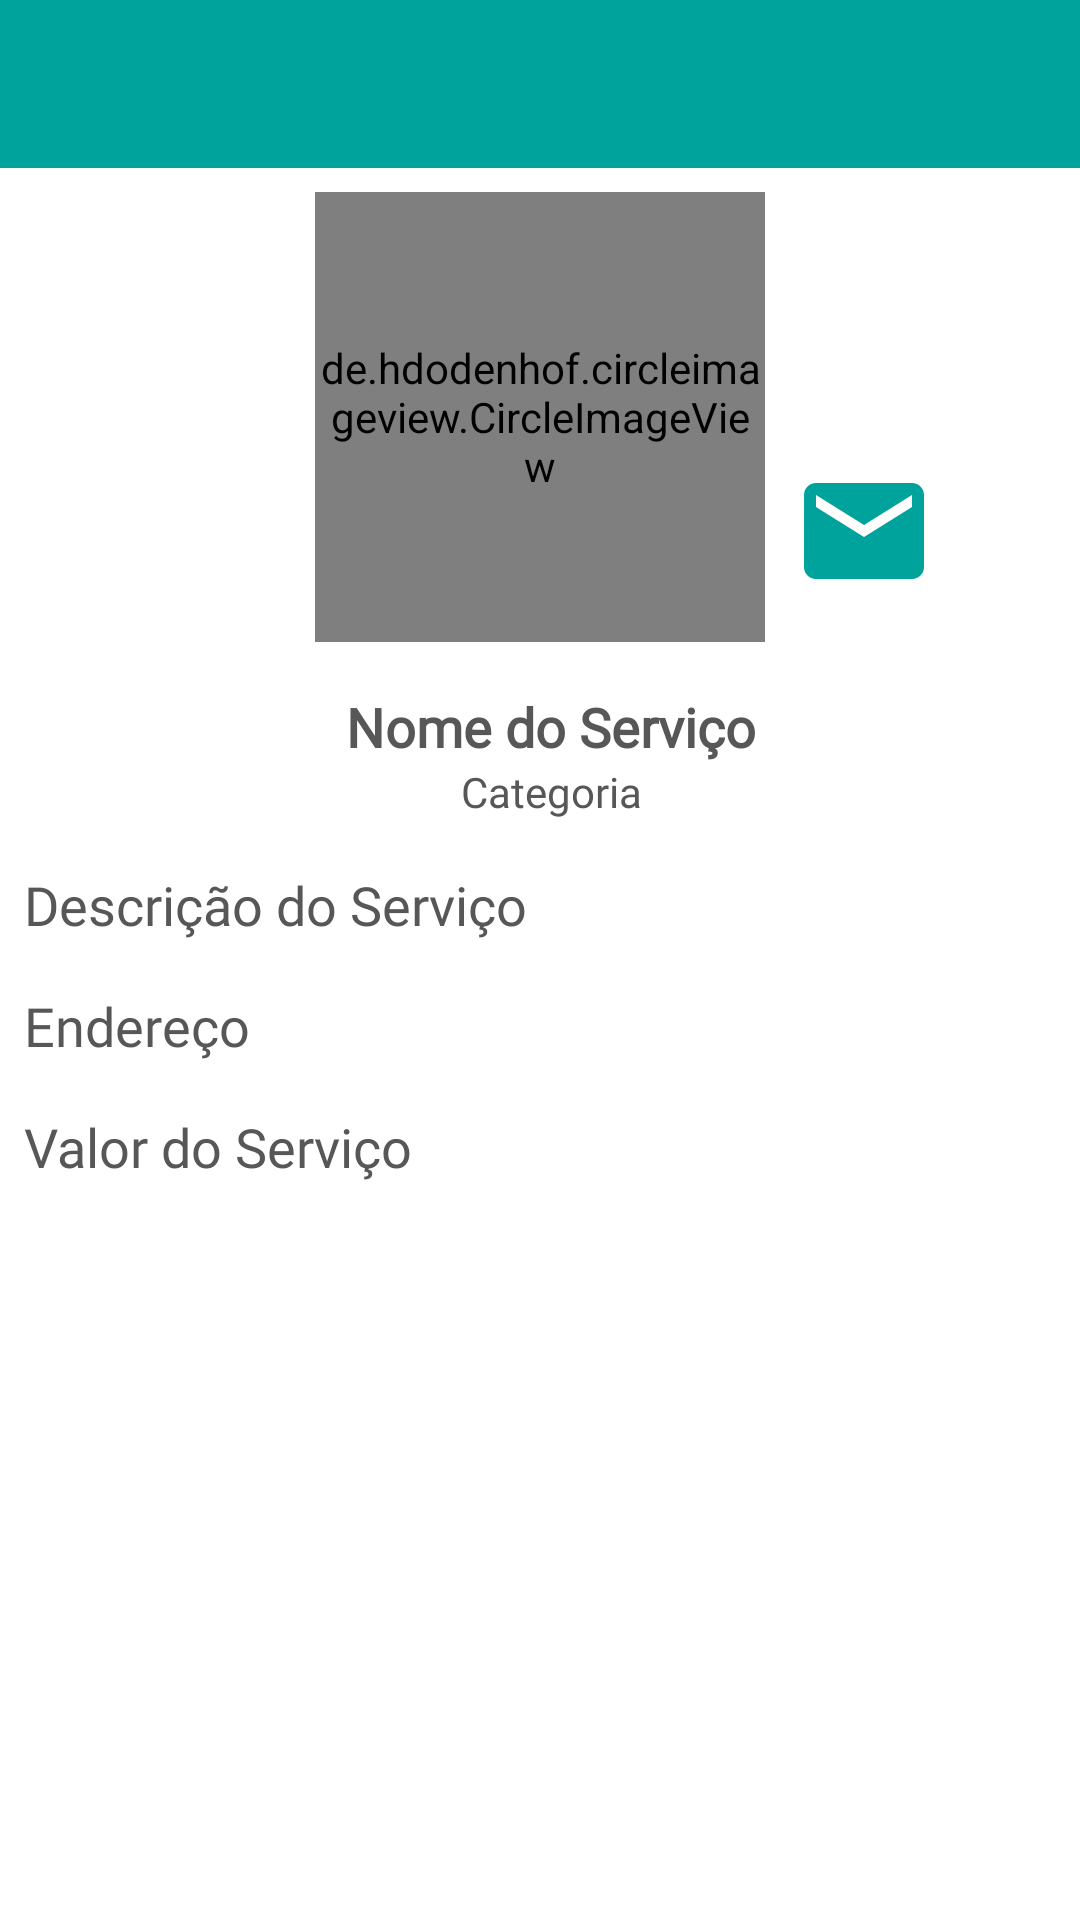

Screen size 1080 × 1920. Icon name, then its box in pixels as (x1, y1, x2, y2):
email: (804, 483, 924, 579)
